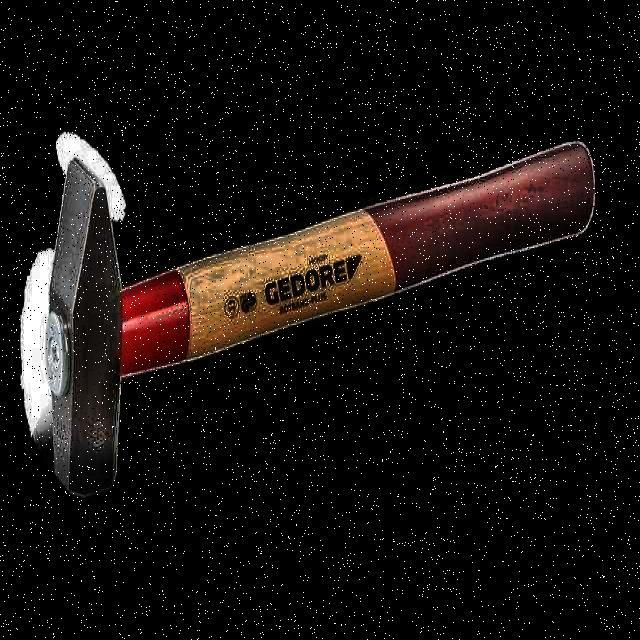hammer: (46, 137, 600, 500)
